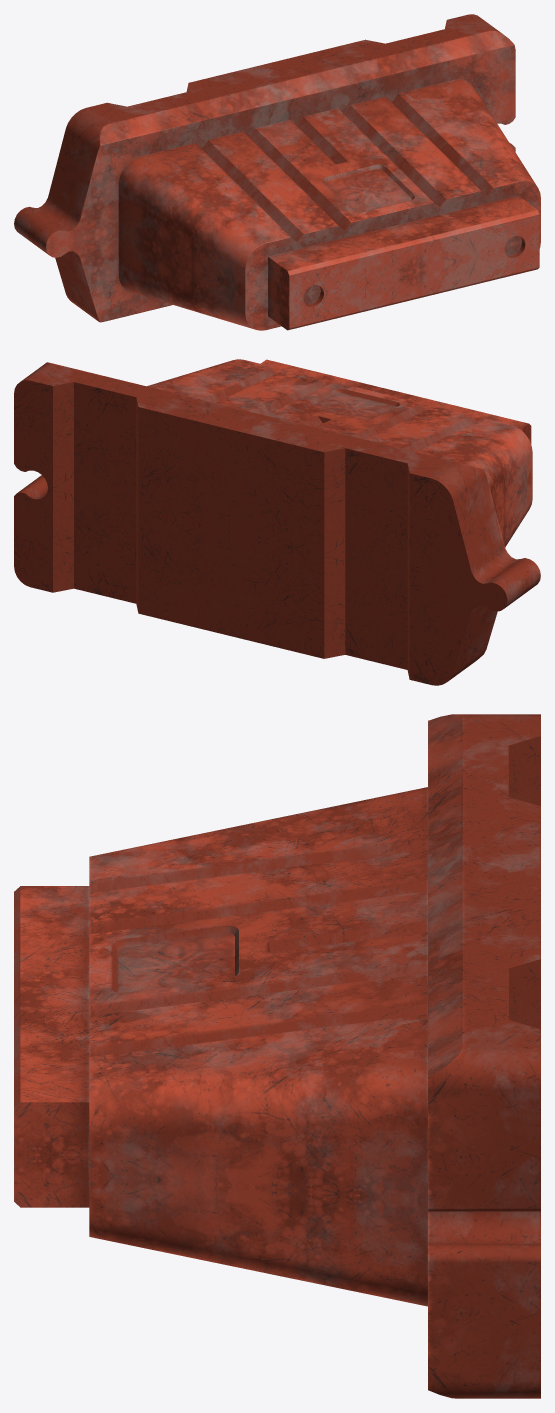
Rendered from Obstacle.obj.
The picture shows the model from 3 angles, top to bottom: view 1: azimuth 30°, elevation 25°; view 2: azimuth 150°, elevation 25°; view 3: azimuth 270°, elevation 25°; orthographic projection. The views are drawn at different scales.
Parts seen in each view (by area): view 1: obstacle_low__0; view 2: obstacle_low__0; view 3: obstacle_low__0.
Part boxes in pixels (left/top/right/bottom): obstacle_low__0: left=14, top=14, right=540, bottom=330; obstacle_low__0: left=14, top=359, right=540, bottom=685; obstacle_low__0: left=14, top=714, right=540, bottom=1398.
Bounding box in the file's own units: 1.97 × 0.788 × 1.08.
1 material, 1 textured.
